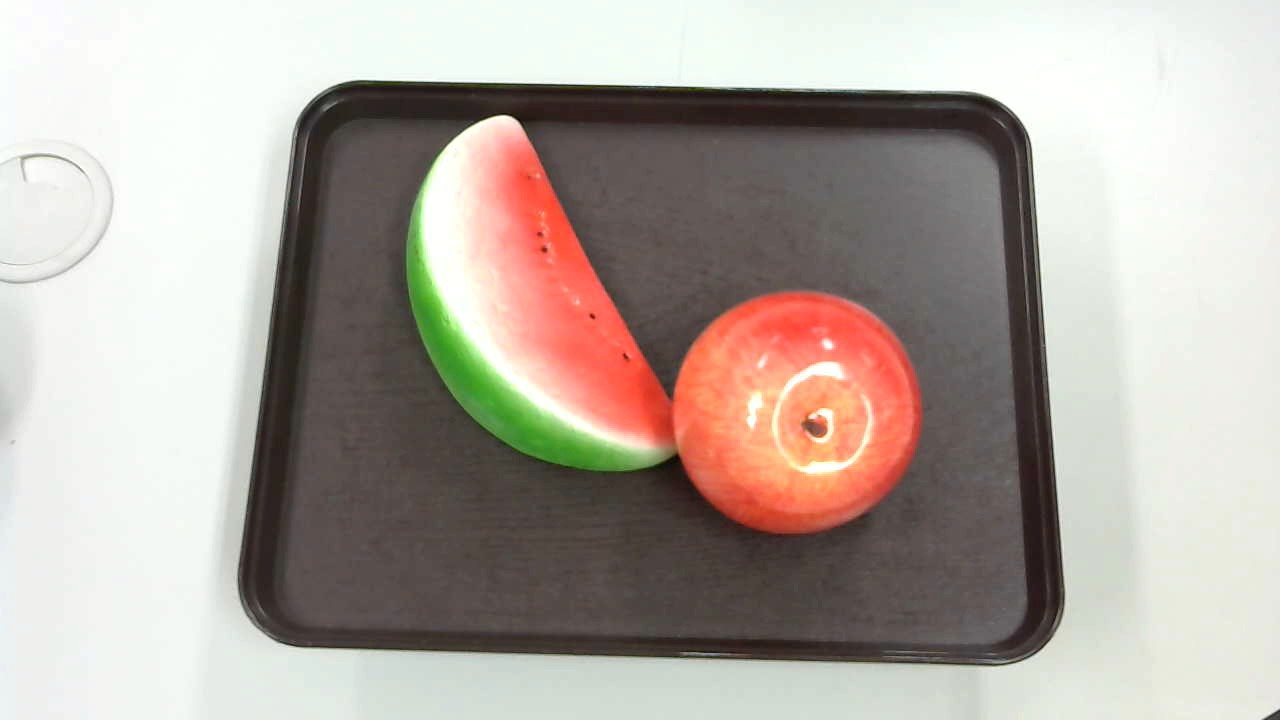red apple: (670, 288, 924, 544)
water melon: (402, 113, 675, 474)
